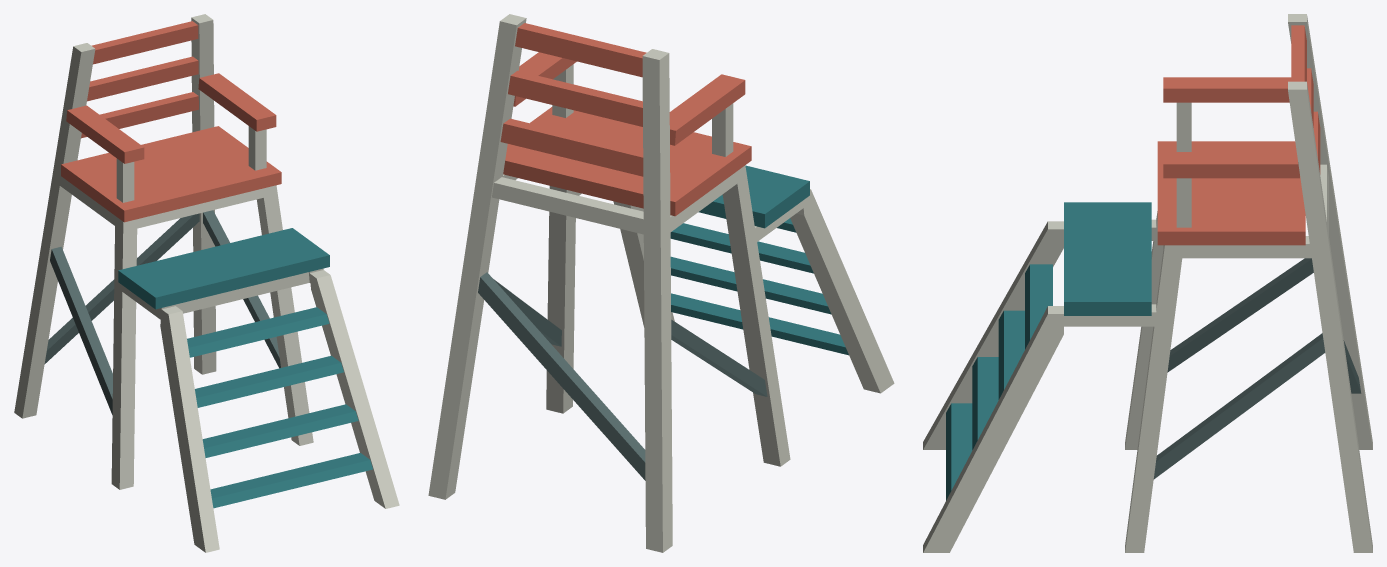
3 views of the same model, side by side, from view 1: azimuth 30°, elevation 25°; view 2: azimuth 150°, elevation 25°; view 3: azimuth 270°, elevation 25° (orthographic). The views are drawn at different scales.
Parts seen in each view (by area): view 1: WholeThickHighSeatBoard, WholeLowFootPlatform, ContinuousRearSplayedBackPost_Left, IndependentInclinedLadderBeam_Left, MainFrontSplayedPost_Left, IndependentInclinedLadderBeam_Right, ContinuousRearSplayedBackPost_Right, WholeHorizontalLadderTread_01, WholeHorizontalLadderTread_02, MainFrontSplayedPost_Right, WholeHorizontalLadderTread_03, WholeHorizontalLadderTread_04 (+12 smaller); view 2: ContinuousRearSplayedBackPost_Left, ContinuousRearSplayedBackPost_Right, WholeThickHighSeatBoard, MainFrontSplayedPost_Left, IndependentInclinedLadderBeam_Left, WholeClippedRearDiagonal, MainFrontSplayedPost_Right, WholeOpenSpacedBackSlat_01, WholeRearSeatCrossmember, WholeOpenSpacedBackSlat_02, WholeOpenSpacedBackSlat_03, WholeLowFootPlatform (+10 smaller); view 3: WholeThickHighSeatBoard, WholeLowFootPlatform, ContinuousRearSplayedBackPost_Right, IndependentInclinedLadderBeam_Right, MainFrontSplayedPost_Right, ContinuousRearSplayedBackPost_Left, IndependentInclinedLadderBeam_Left, WholeClippedSideDiagonal_Right, WholeSideArmrest_Right, WholeSideArmrest_Left, WholeClippedSideDiagonal_Left, MainFrontSplayedPost_Left (+9 smaller).
Boxes of the visible parts, <box> form: WholeThickHighSeatBoard: <box>61,126,281,222</box>; WholeLowFootPlatform: <box>118,228,329,309</box>; ContinuousRearSplayedBackPost_Left: <box>14,43,95,418</box>; IndependentInclinedLadderBeam_Left: <box>160,306,219,552</box>; MainFrontSplayedPost_Left: <box>111,226,137,489</box>; IndependentInclinedLadderBeam_Right: <box>309,270,399,508</box>; ContinuousRearSplayedBackPost_Right: <box>191,14,216,374</box>; WholeHorizontalLadderTread_01: <box>210,453,372,508</box>; WholeHorizontalLadderTread_02: <box>202,404,358,457</box>; MainFrontSplayedPost_Right: <box>256,194,313,445</box>; WholeHorizontalLadderTread_03: <box>195,355,343,407</box>; WholeHorizontalLadderTread_04: <box>187,307,329,357</box>; ContinuousRearSplayedBackPost_Left: <box>642,49,672,552</box>; ContinuousRearSplayedBackPost_Right: <box>428,14,526,499</box>; WholeThickHighSeatBoard: <box>503,107,751,216</box>; MainFrontSplayedPost_Left: <box>722,177,790,466</box>; IndependentInclinedLadderBeam_Left: <box>790,189,894,393</box>; WholeClippedRearDiagonal: <box>478,272,645,480</box>; MainFrontSplayedPost_Right: <box>546,186,576,413</box>; WholeOpenSpacedBackSlat_01: <box>500,118,643,176</box>; WholeRearSeatCrossmember: <box>492,177,643,234</box>; WholeOpenSpacedBackSlat_02: <box>508,70,642,126</box>; WholeOpenSpacedBackSlat_03: <box>515,23,646,77</box>; WholeLowFootPlatform: <box>698,165,809,228</box>; WholeThickHighSeatBoard: <box>1157,141,1305,245</box>; WholeLowFootPlatform: <box>1064,202,1151,315</box>; ContinuousRearSplayedBackPost_Right: <box>1288,81,1372,552</box>; IndependentInclinedLadderBeam_Right: <box>923,306,1063,552</box>; MainFrontSplayedPost_Right: <box>1125,251,1182,552</box>; ContinuousRearSplayedBackPost_Left: <box>1288,14,1372,449</box>; IndependentInclinedLadderBeam_Left: <box>923,221,1063,449</box>; WholeClippedSideDiagonal_Right: <box>1153,333,1325,479</box>; WholeSideArmrest_Right: <box>1163,153,1299,178</box>; WholeSideArmrest_Left: <box>1163,77,1291,102</box>; WholeClippedSideDiagonal_Left: <box>1167,258,1313,372</box>; MainFrontSplayedPost_Left: <box>1125,211,1163,449</box>.
Bounding box in the file's own units: 1.38 × 2.58 × 2.36.
